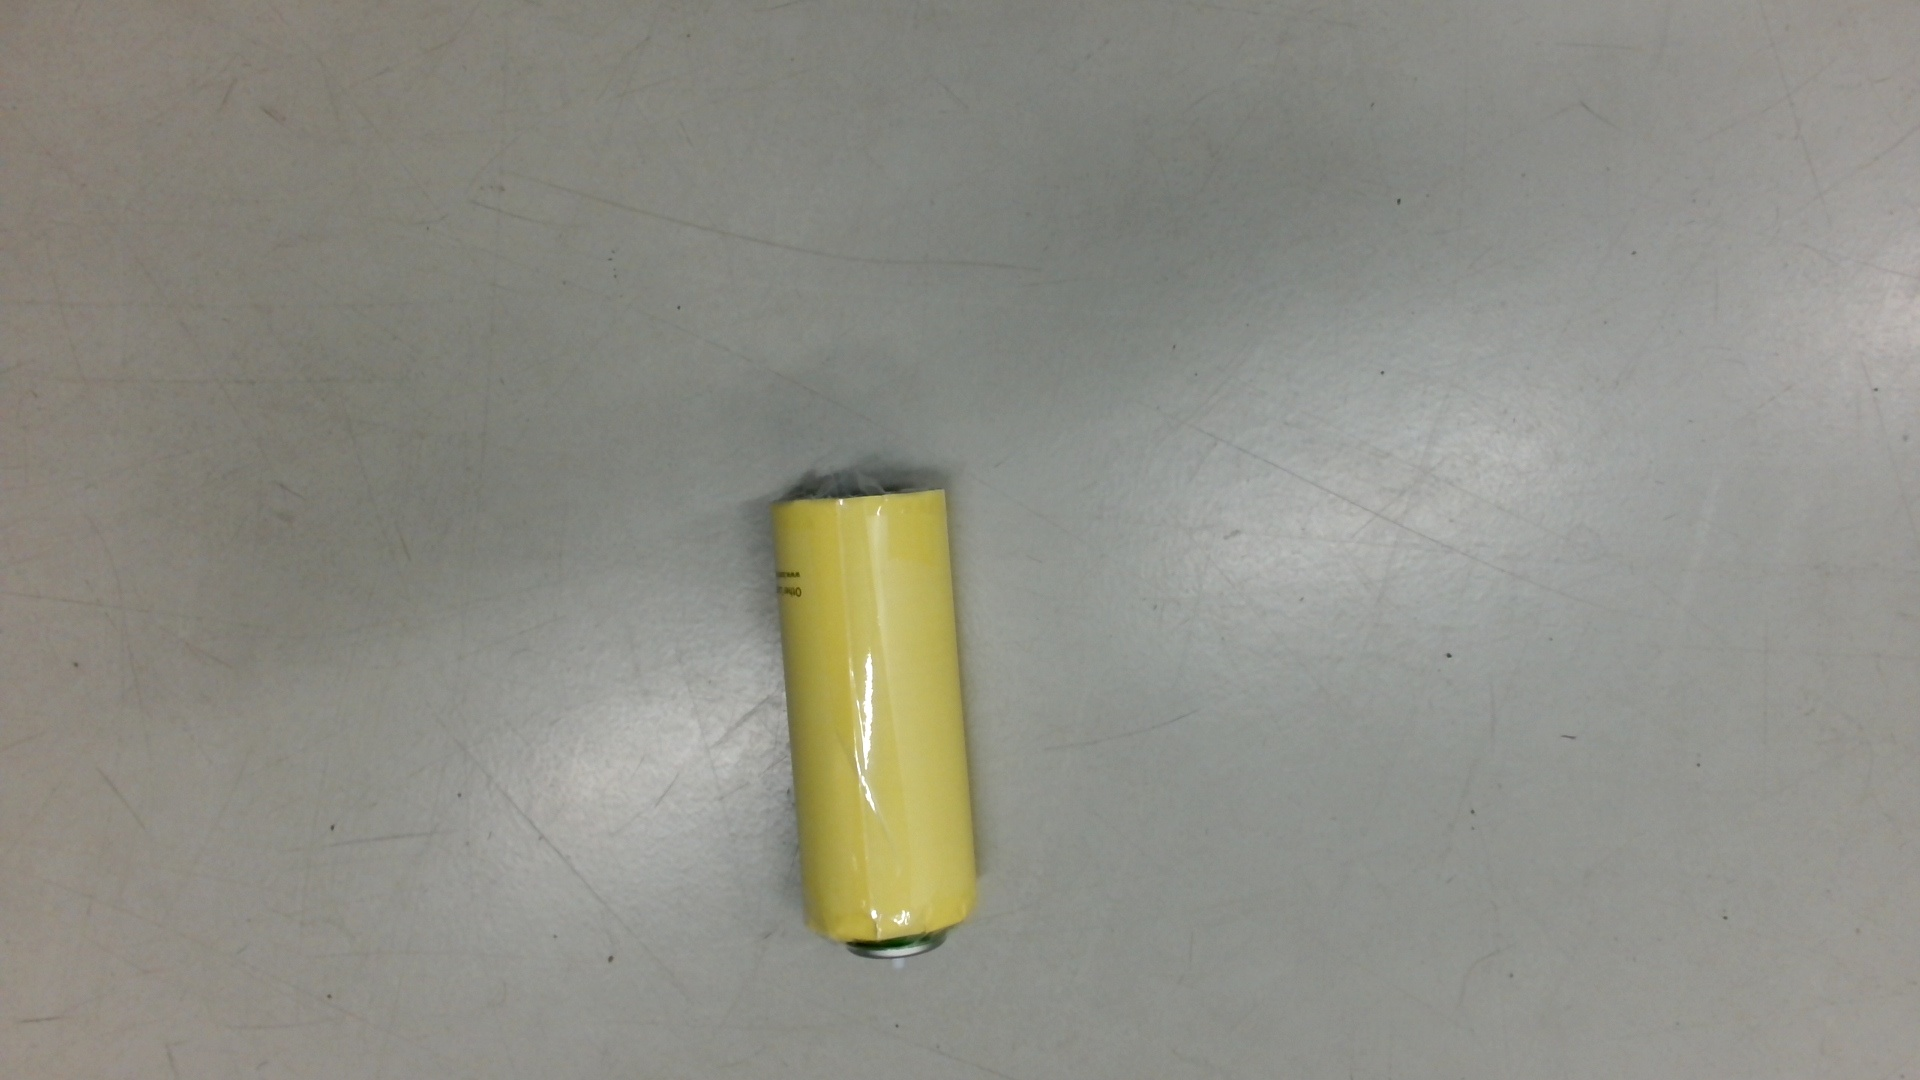Cylinder: (765, 473, 1004, 985)
